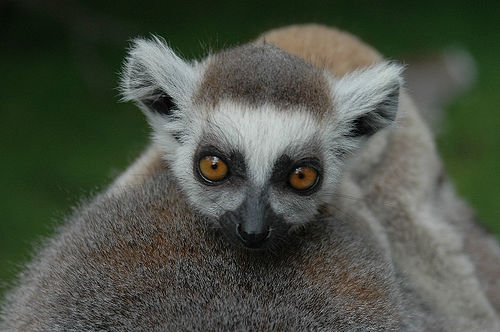cat: (1, 35, 418, 331)
